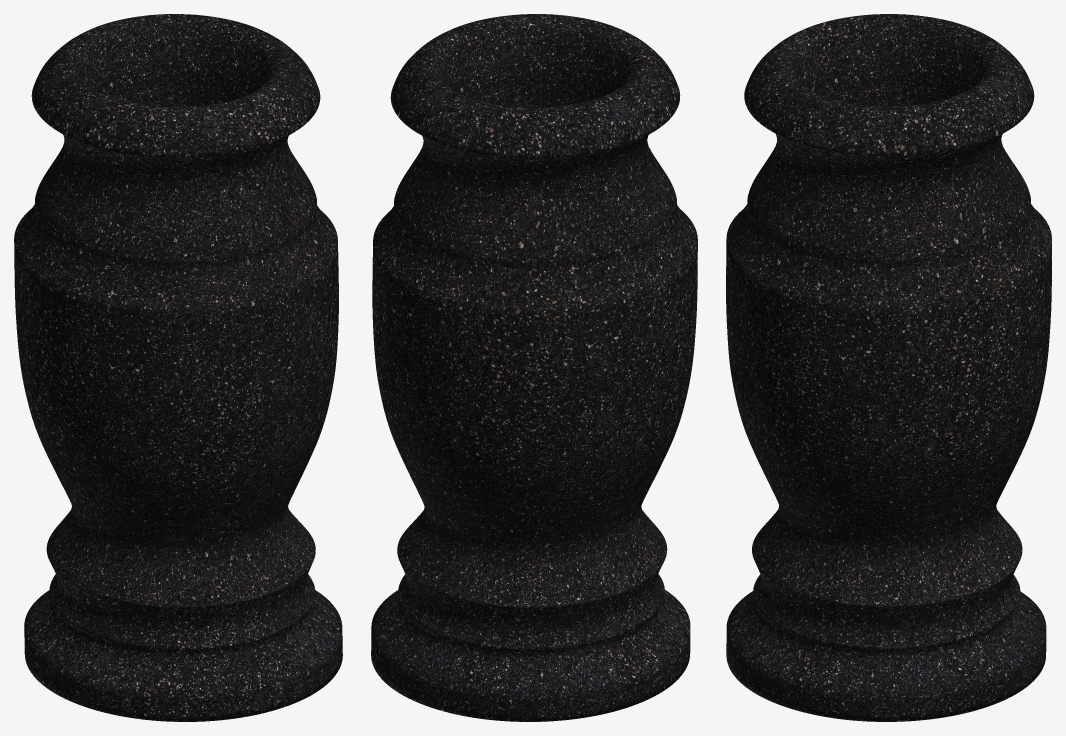
Rendered from Ваза Габро [u_100_u].glb.
3 renders of one model, left to right at view 1: azimuth 30°, elevation 25°; view 2: azimuth 150°, elevation 25°; view 3: azimuth 270°, elevation 25°, orthographic.
Parts seen in each view (by area): view 1: vaza.001; view 2: vaza.001; view 3: vaza.001.
Part boxes in pixels (bbox=[...]): vaza.001: bbox=[14, 14, 342, 721]; vaza.001: bbox=[371, 14, 697, 721]; vaza.001: bbox=[726, 14, 1051, 721].
Size of the model in its own units: 0.1491 by 0.2981 by 0.149.
Materials: 1 (1 with a texture image).
